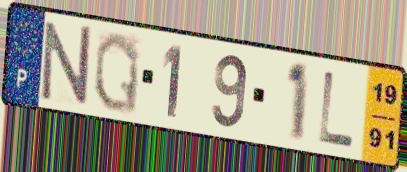1: (285, 61, 312, 143), (162, 43, 182, 120)
9: (211, 52, 248, 130)
L: (316, 67, 358, 150)
N: (40, 19, 93, 108)
Q: (92, 29, 142, 117)
